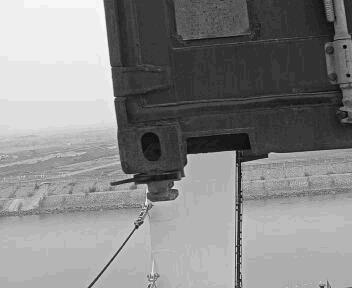twist_lock_1: (126, 161, 188, 208)
